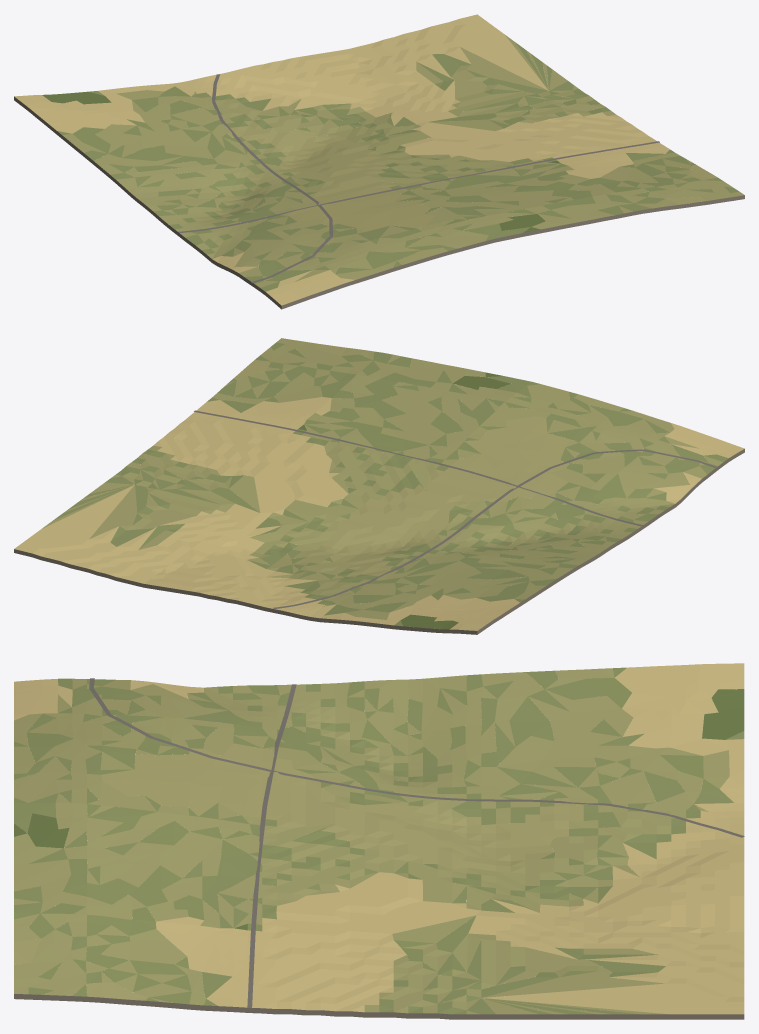
Rendered from parca_+13_-3-uzak.glb.
3 views of the same model, one above another, from view 1: azimuth 30°, elevation 25°; view 2: azimuth 150°, elevation 25°; view 3: azimuth 270°, elevation 25° (orthographic). The views are drawn at different scales.
Parts seen in each view (by area): view 1: parca_+13_-3_arazi_uzak, parca_+13_-3_yollar_uzak; view 2: parca_+13_-3_arazi_uzak, parca_+13_-3_yollar_uzak; view 3: parca_+13_-3_arazi_uzak, parca_+13_-3_yollar_uzak.
Part boxes in pixels (bbox=[...]): parca_+13_-3_arazi_uzak: bbox=[14, 14, 744, 309]; parca_+13_-3_yollar_uzak: bbox=[178, 74, 659, 283]; parca_+13_-3_arazi_uzak: bbox=[14, 338, 744, 634]; parca_+13_-3_yollar_uzak: bbox=[194, 410, 717, 608]; parca_+13_-3_arazi_uzak: bbox=[14, 663, 744, 1019]; parca_+13_-3_yollar_uzak: bbox=[89, 678, 744, 1007].
Bounding box in the file's own units: 1004 × 81.79 × 1001.
